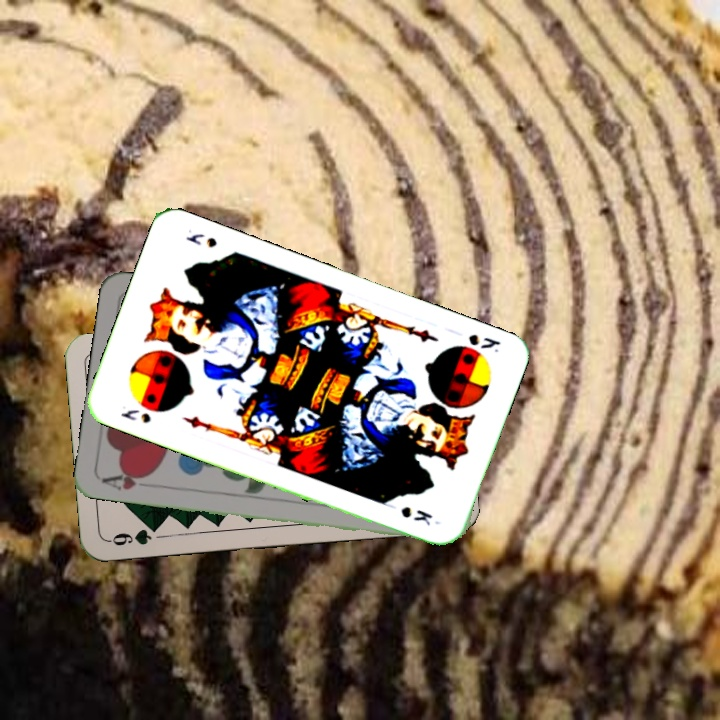G9: (105, 521, 163, 549)
HA: (98, 466, 156, 493)
SK: (464, 329, 504, 355), (117, 405, 154, 426)
